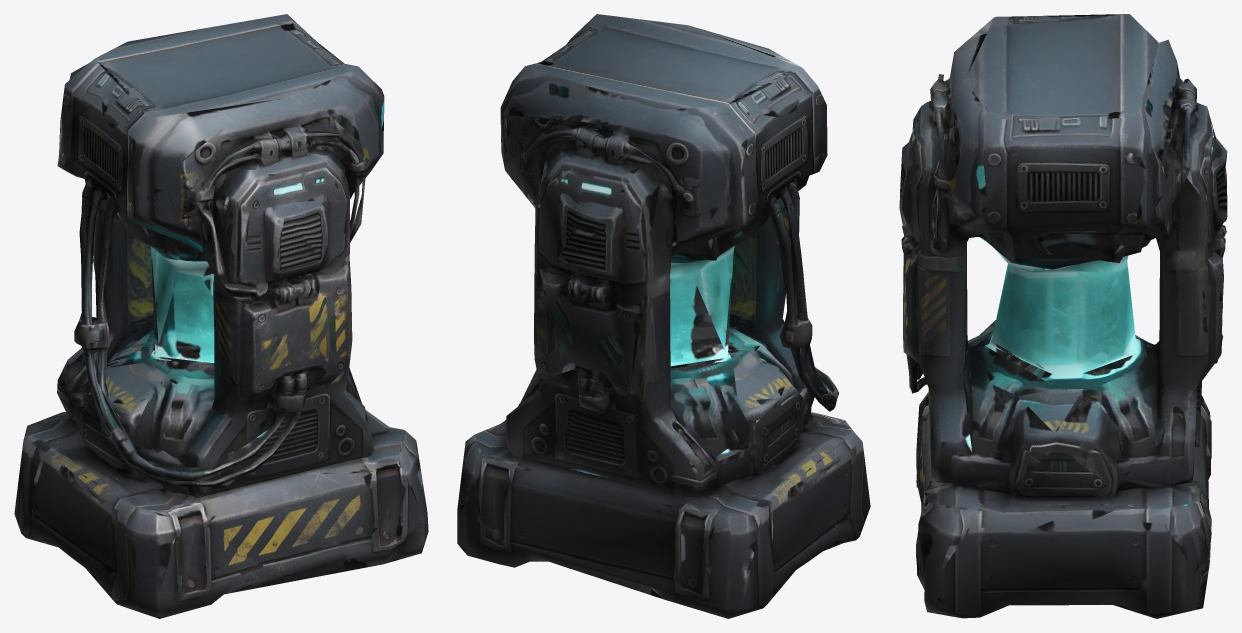
Rendered from reacteur.glb.
The picture shows the model from 3 angles, left to right: view 1: azimuth 30°, elevation 25°; view 2: azimuth 150°, elevation 25°; view 3: azimuth 270°, elevation 25°; orthographic projection.
Parts seen in each view (by area): view 1: tripo_node_d71e301f-cb82-4312-8123-6a425d1e3d79; view 2: tripo_node_d71e301f-cb82-4312-8123-6a425d1e3d79; view 3: tripo_node_d71e301f-cb82-4312-8123-6a425d1e3d79.
Part boxes in pixels (<box>): tripo_node_d71e301f-cb82-4312-8123-6a425d1e3d79: <box>14,14,428,618</box>; tripo_node_d71e301f-cb82-4312-8123-6a425d1e3d79: <box>457,14,870,618</box>; tripo_node_d71e301f-cb82-4312-8123-6a425d1e3d79: <box>899,14,1227,618</box>.
Bounding box in the file's own units: 0.6606 × 0.992 × 0.6053.
1 material, 1 textured.
